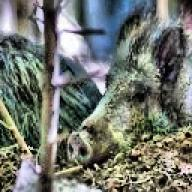boar: (64, 8, 192, 168), (0, 20, 102, 156)
